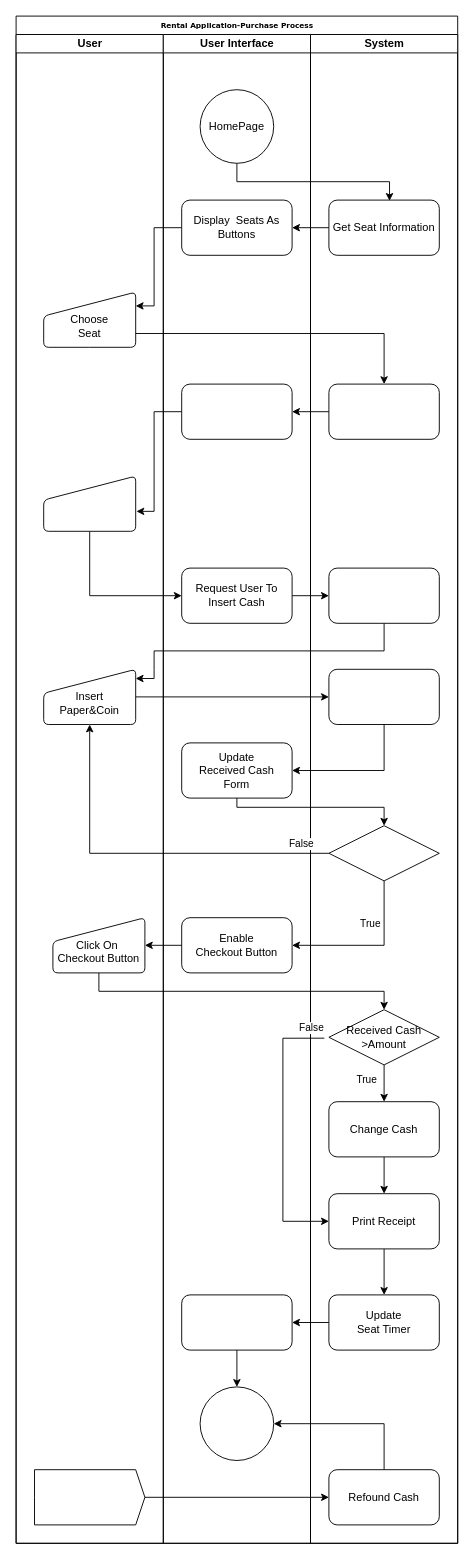
Some shapes in this 474 by 1559 pixel diagram are drawn without their labels. Here are the shapes that lost their labels. From the top down, the centre of each, then its label:
At pixel 236 411: "Display Purchase Option".
At pixel 383 411: "Get Option Information".
At pixel 89 503: "Choose Hours To Rent".
At pixel 383 595: "Start Paper&Coin Mechanic".
At pixel 383 696: "Signal On Received Cash".
At pixel 383 853: "Received Cash >= Amount".
At pixel 236 1322: "Appreciation Purchase Form".
At pixel 236 1423: "End".
At pixel 89 1497: "Cancel On Inserted Cash".
